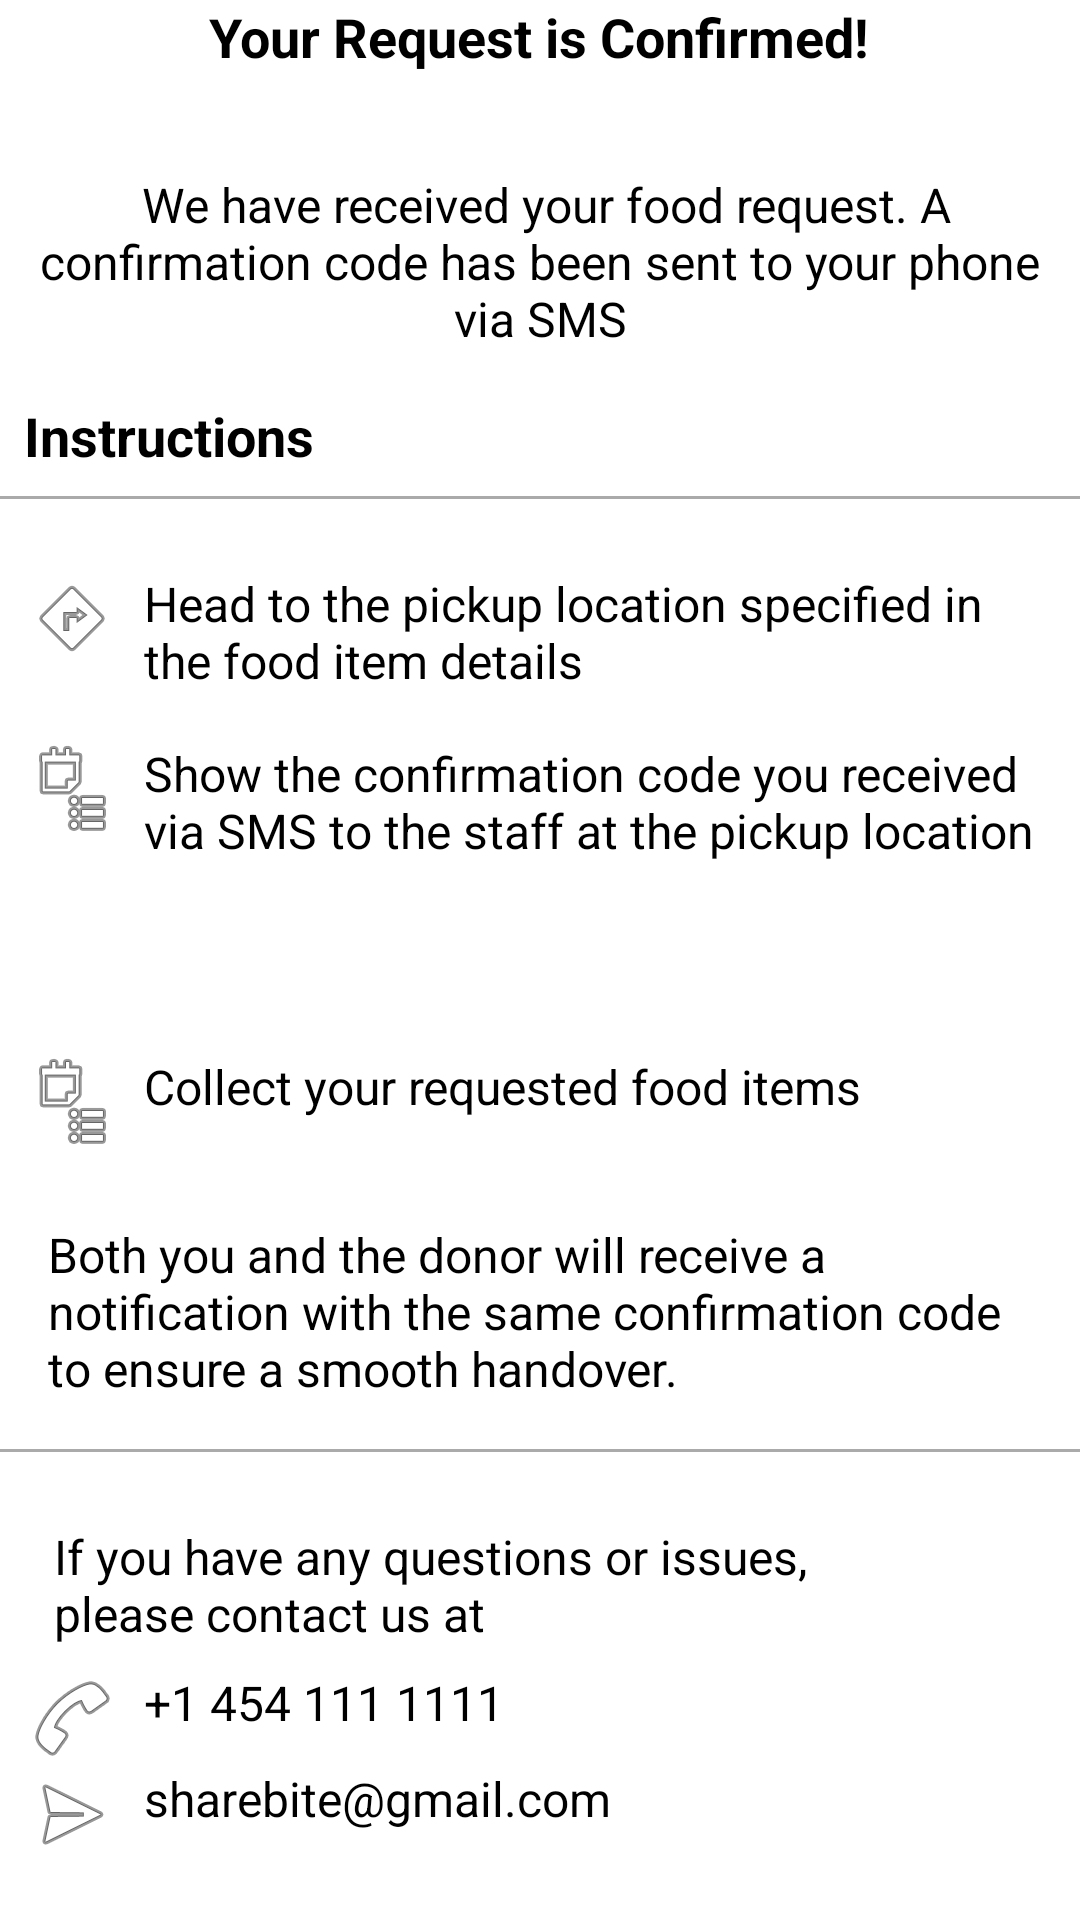

Screen size 1080×1920. Icon name, then its center in pixels as (x,y):
agenda: (72,788), (72,1101)
call: (72,1718)
directions: (72,618)
send: (73,1814)
